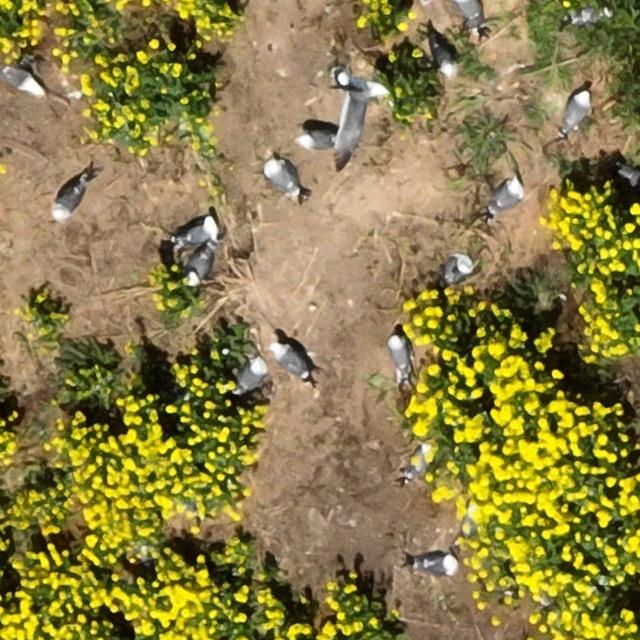F: (334, 68, 384, 162)
umineko: (401, 443, 433, 484), (276, 346, 308, 380), (492, 178, 524, 211), (264, 162, 296, 193), (54, 182, 83, 216), (235, 358, 262, 392), (566, 90, 590, 128), (178, 220, 214, 244), (390, 334, 410, 374), (5, 68, 38, 92), (443, 254, 471, 282), (190, 248, 213, 281), (454, 1, 482, 26), (432, 42, 453, 74), (421, 555, 455, 573), (299, 131, 334, 148)
